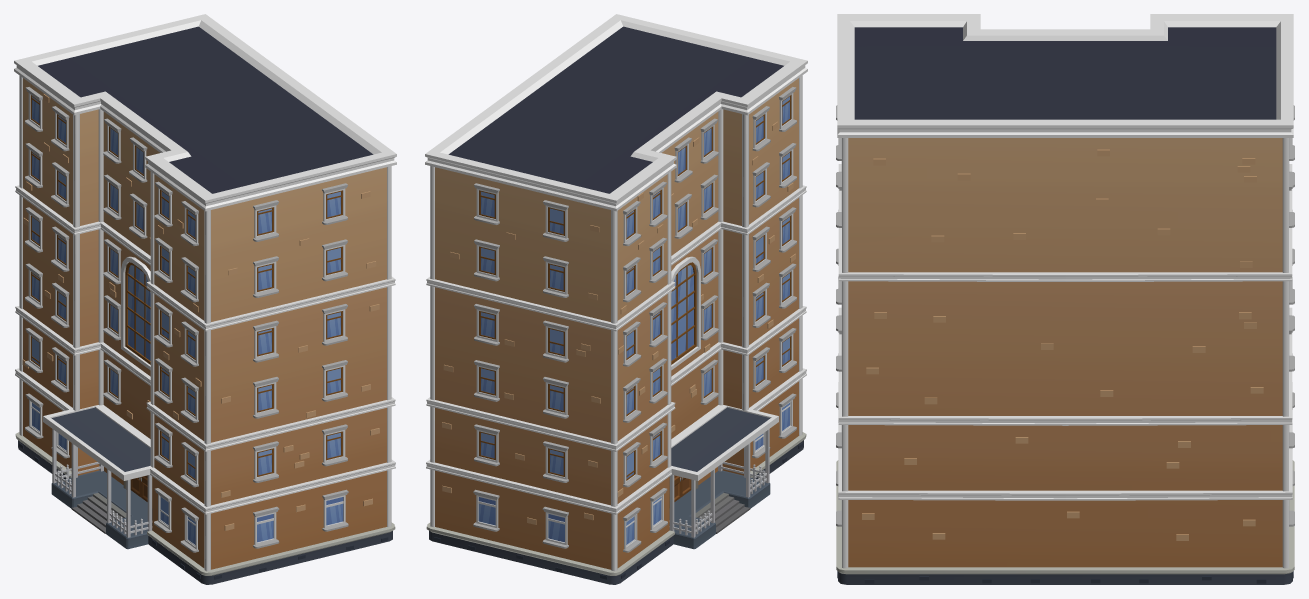
Rendered from Building_5_4_R.fbx.
The picture shows the model from 3 angles, left to right: view 1: azimuth 30°, elevation 25°; view 2: azimuth 150°, elevation 25°; view 3: azimuth 270°, elevation 25°; orthographic projection. The views are drawn at different scales.
Parts seen in each view (by area): view 1: Building_5_4_R; view 2: Building_5_4_R; view 3: Building_5_4_R.
Part boxes in pixels (bbox=[...]): Building_5_4_R: bbox=[14, 14, 396, 584]; Building_5_4_R: bbox=[425, 14, 807, 584]; Building_5_4_R: bbox=[836, 14, 1294, 584].
Size of the model in its own units: 1251 by 2109 by 1908.
